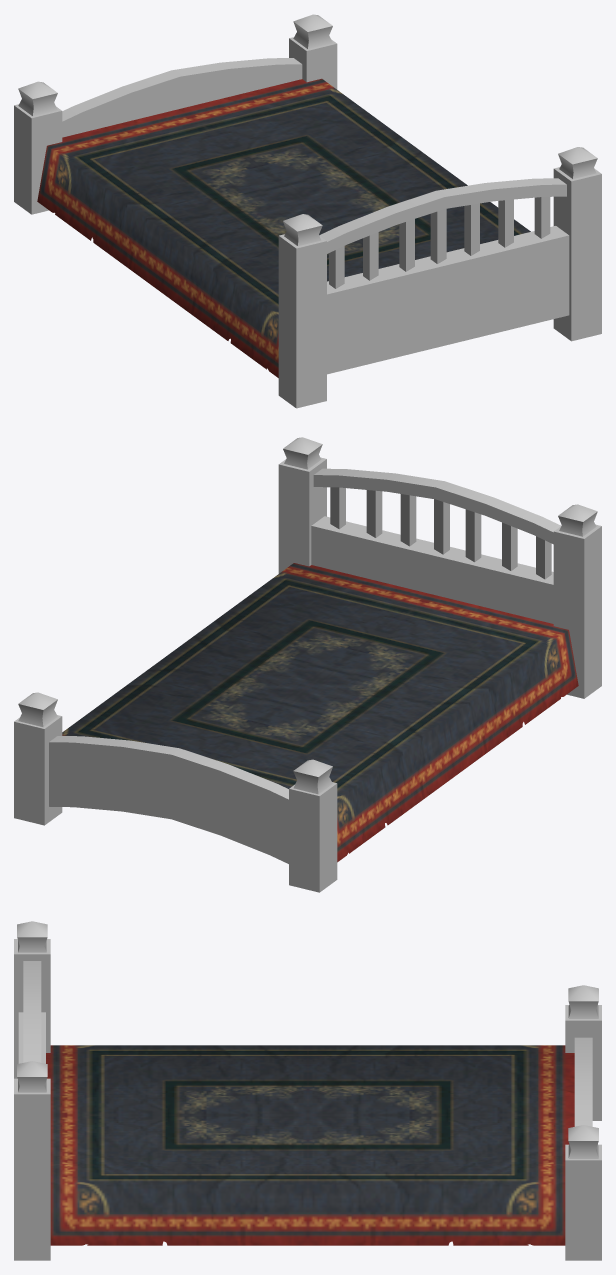
The model's file is Bed_4.fbx.
3 renders of one model, top to bottom at view 1: azimuth 30°, elevation 25°; view 2: azimuth 150°, elevation 25°; view 3: azimuth 270°, elevation 25°, orthographic. The views are drawn at different scales.
Visible parts, largest first — view 1: polySurface7908, Alpha; view 2: Alpha, polySurface7908; view 3: Alpha, polySurface7908.
Part boxes in pixels (box(x1,y1,x2,y2)): polySurface7908: box(14, 14, 601, 408); Alpha: box(37, 78, 530, 377); Alpha: box(62, 563, 578, 862); polySurface7908: box(14, 437, 601, 892); Alpha: box(46, 1045, 574, 1245); polySurface7908: box(14, 921, 601, 1260).
Bounding box in the file's own units: 2 × 1.15 × 3.2.
